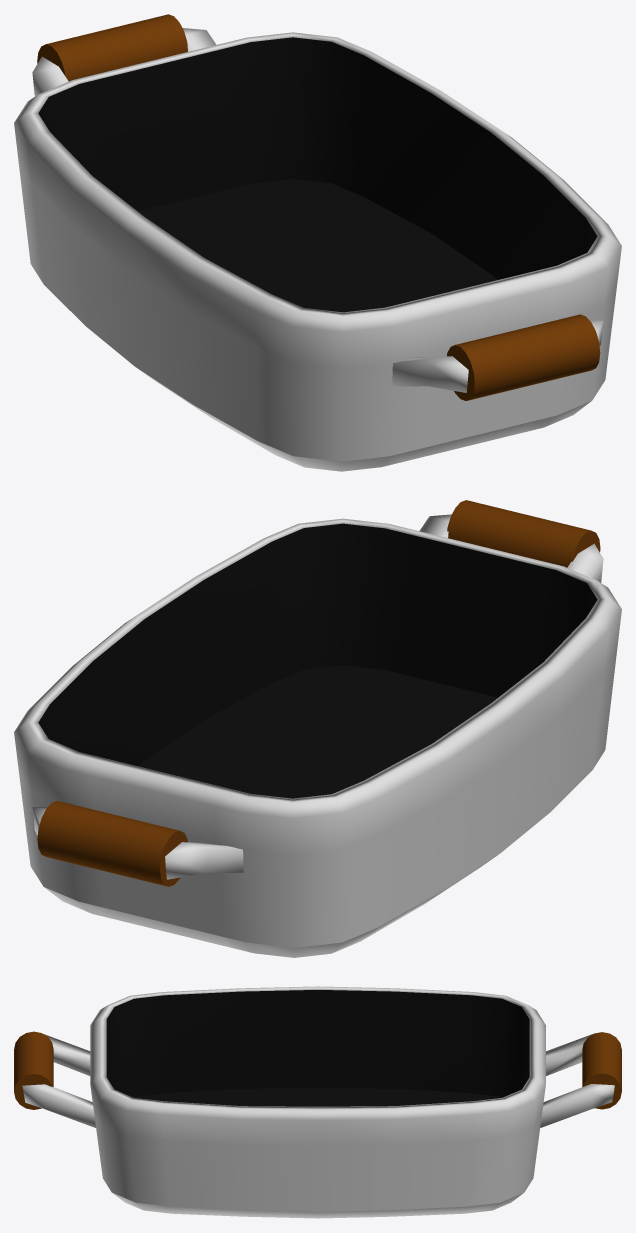
The model's file is Ugnsform_modell_Uv&Scale_malte_001.fbx.
3 views of the same model, one above another, from view 1: azimuth 30°, elevation 25°; view 2: azimuth 150°, elevation 25°; view 3: azimuth 270°, elevation 25° (orthographic). The views are drawn at different scales.
Visible parts, largest first — view 1: file1; view 2: file1; view 3: file1.
Part boxes in pixels (box(x1,y1,x2,y2)): file1: box(14, 14, 621, 471); file1: box(14, 500, 621, 957); file1: box(14, 986, 621, 1218).
Bounding box in the file's own units: 227 × 93.2 × 446.
